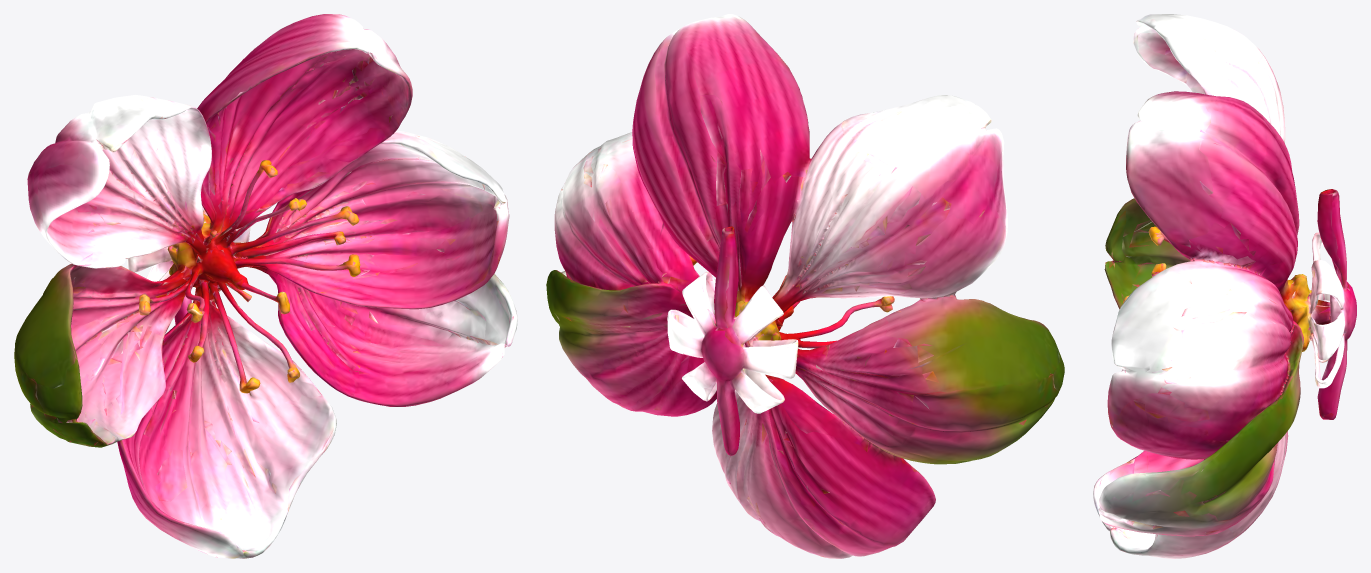
The picture shows the model from 3 angles, left to right: view 1: azimuth 30°, elevation 25°; view 2: azimuth 150°, elevation 25°; view 3: azimuth 270°, elevation 25°; orthographic projection. The views are drawn at different scales.
Parts seen in each view (by area): view 1: Mesh_0; view 2: Mesh_0; view 3: Mesh_0.
Boxes of the visible parts, left/top/right/bottom form: Mesh_0: left=14, top=14, right=517, bottom=558; Mesh_0: left=546, top=14, right=1064, bottom=558; Mesh_0: left=1093, top=14, right=1356, bottom=558.
Bounding box in the file's own units: 1.91 × 1.91 × 0.8811.
1 material, 1 textured.
